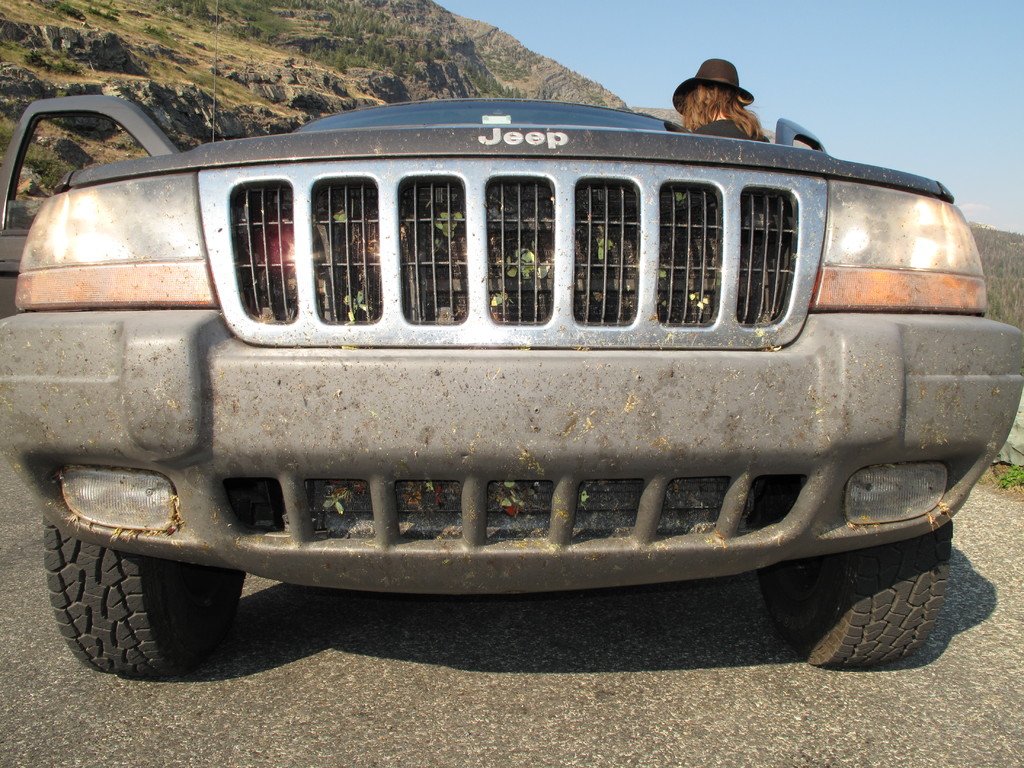Person: (672, 58, 769, 142)
